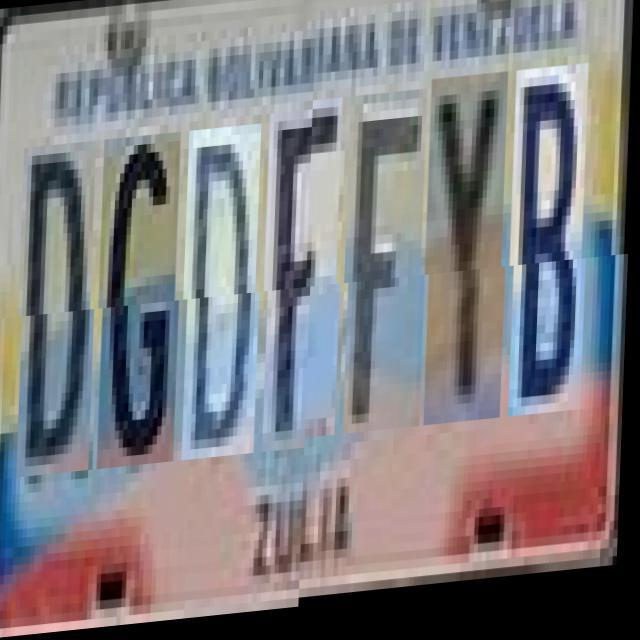B: (512, 84, 594, 437)
D: (20, 142, 102, 478), (185, 129, 267, 464)
F: (347, 107, 432, 450), (266, 113, 348, 457)
G: (100, 136, 186, 470)
Y: (426, 91, 514, 444)
